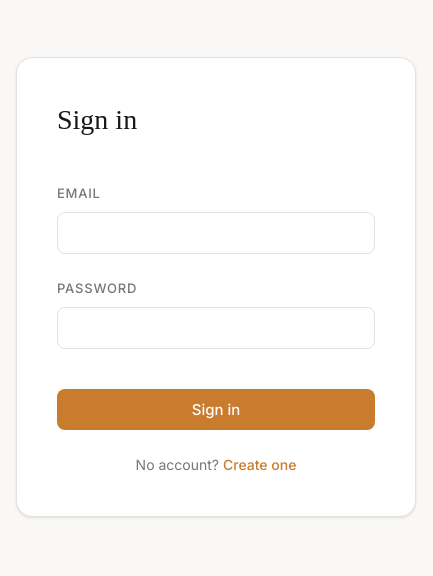
Test: LoginPage › shows error message on signIn failure
Type "test@example.com" into the field labelled "Email" at x=216, y=233, box 57,212 -> 375,254
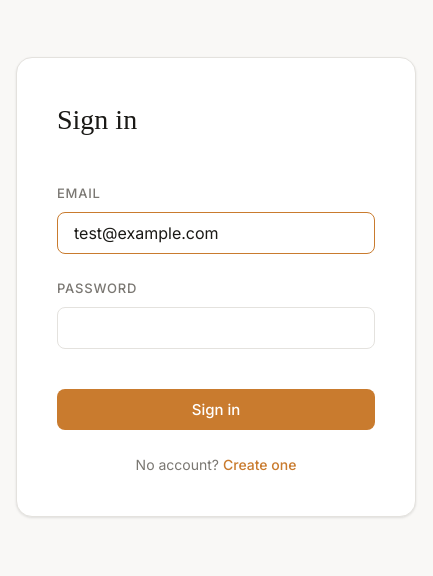
Type "wrong" into the password field labelled "Password" at x=216, y=328, box 57,306 -> 375,348
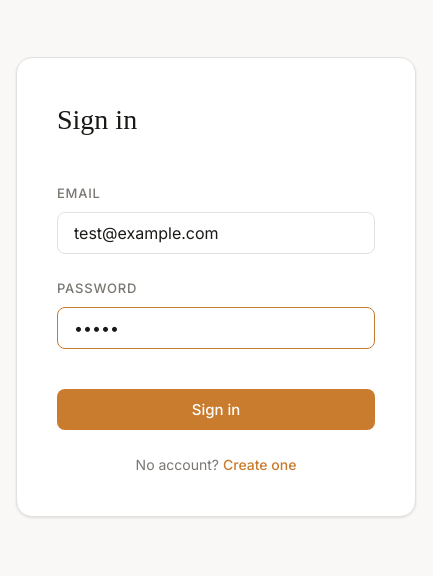
Click the button "Sign in" at x=216, y=409, box 57,388 -> 375,430
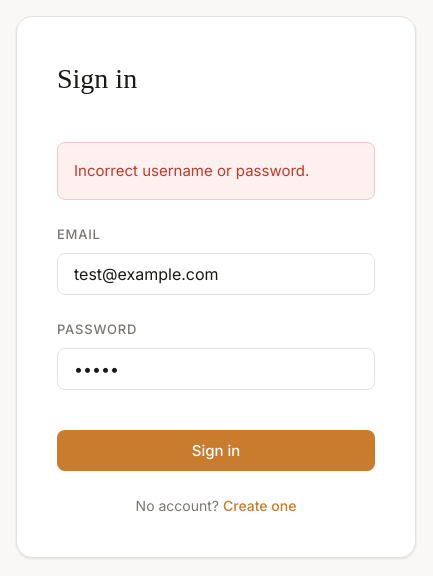
Now the text "Incorrect username or password." is shown, box 57,142 -> 375,200
